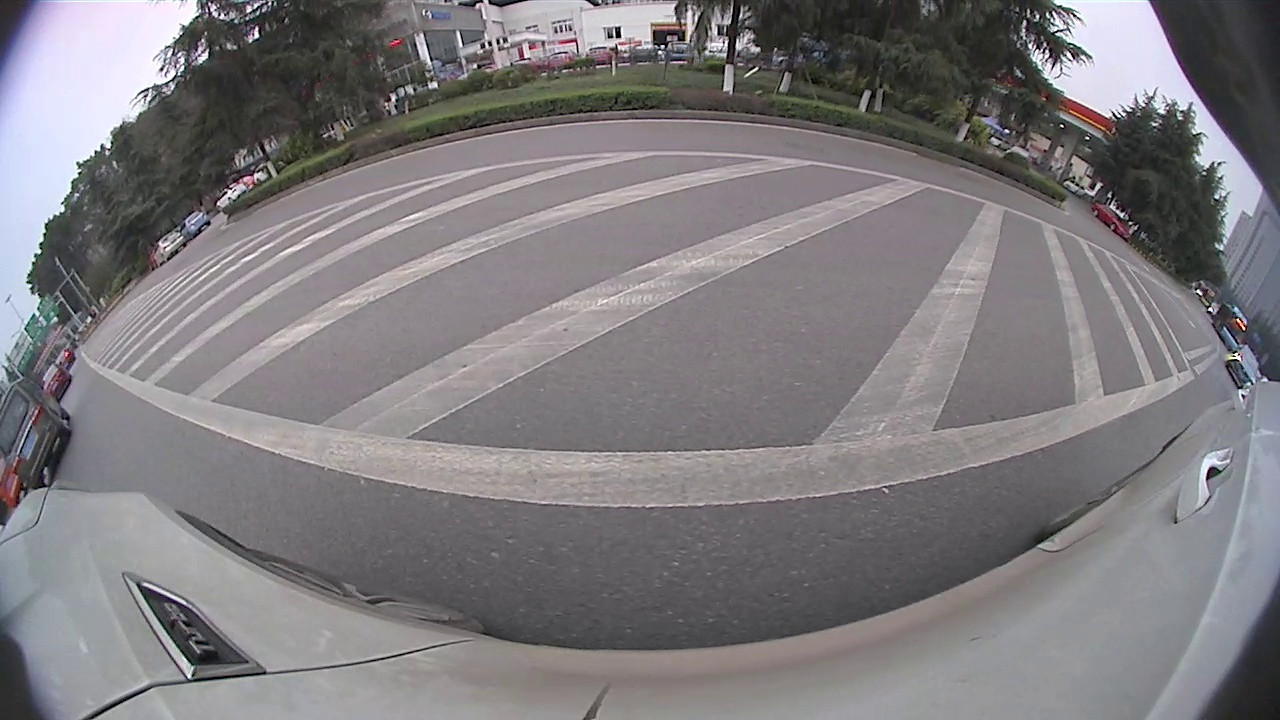bus: (1210, 295, 1251, 352)
car: (0, 370, 79, 490), (1088, 197, 1134, 246), (1221, 339, 1265, 390)
